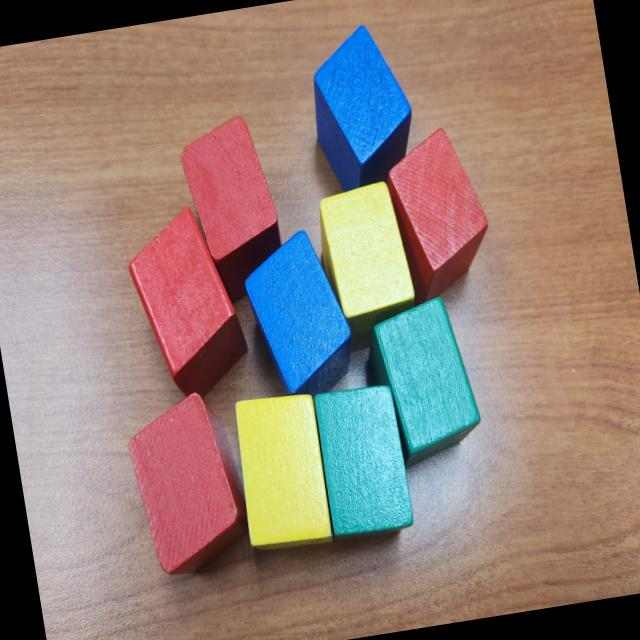blue: (300, 18, 423, 196), (237, 226, 359, 400)
green: (362, 292, 488, 473), (311, 380, 419, 544)
red: (121, 202, 255, 407), (122, 385, 256, 581), (176, 112, 292, 310), (380, 122, 500, 308)
yellow: (312, 180, 425, 356), (228, 388, 336, 552)
